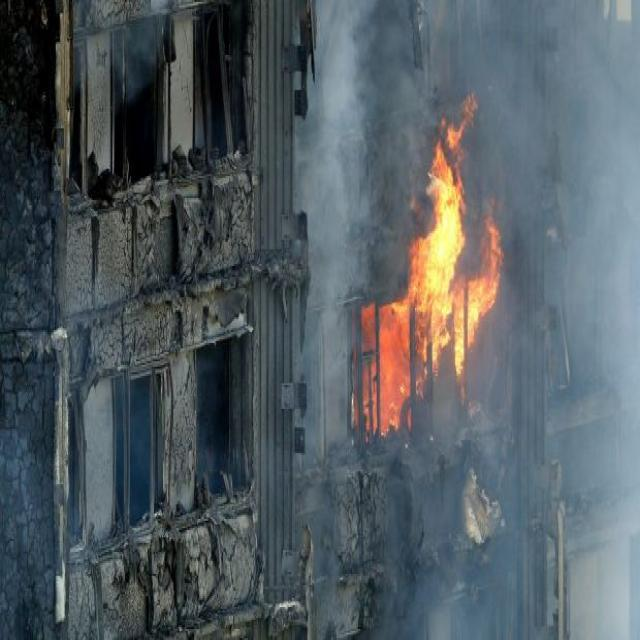Fire: (406, 140, 504, 374)
Smoke: (506, 1, 640, 634), (305, 2, 400, 294), (414, 407, 502, 640)
